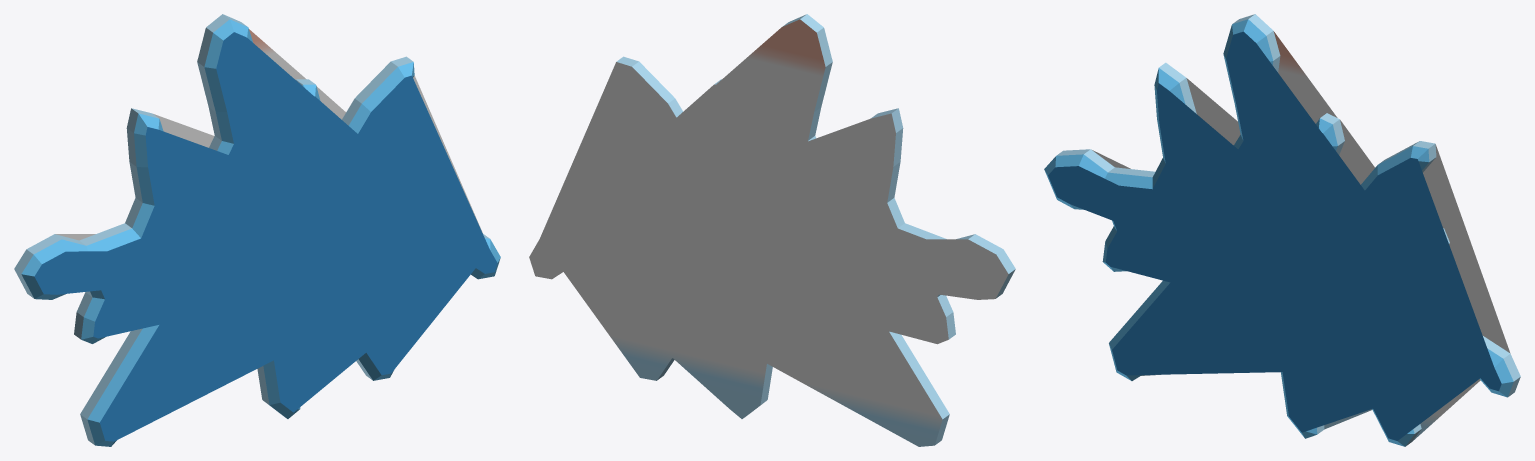
The model's file is splat.fbx.
The picture shows the model from 3 angles, left to right: view 1: azimuth 30°, elevation 25°; view 2: azimuth 150°, elevation 25°; view 3: azimuth 330°, elevation 25°; orthographic projection. The views are drawn at different scales.
Visible parts, largest first — view 1: Plane; view 2: Plane; view 3: Plane.
Boxes of the visible parts, box(x1,y1,x2,y2) form: Plane: box(14, 14, 500, 446); Plane: box(529, 14, 1015, 446); Plane: box(1044, 14, 1520, 446).
Bounding box in the file's own units: 165 × 136 × 7.
